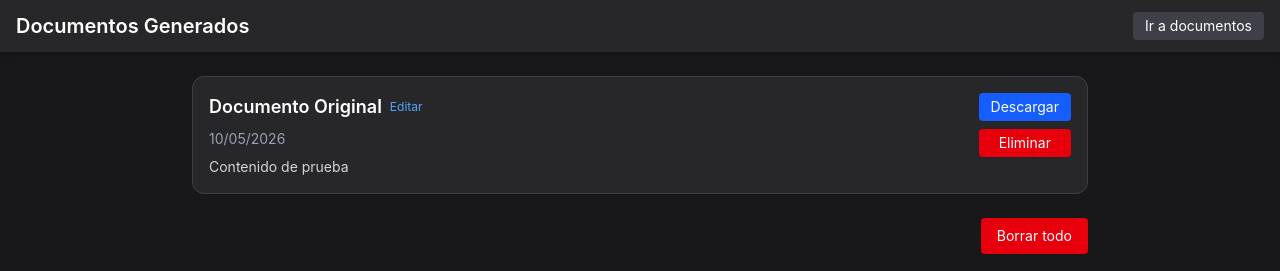
Test: Documentos flow integration › debe completar el flujo de edición (renombrar) un documento
Expected: the text "Documento Original" is shown, [209,96,382,117]
Note: Simular clic en editar
Click the button "Editar" at (406, 107), box [390,99,422,115]
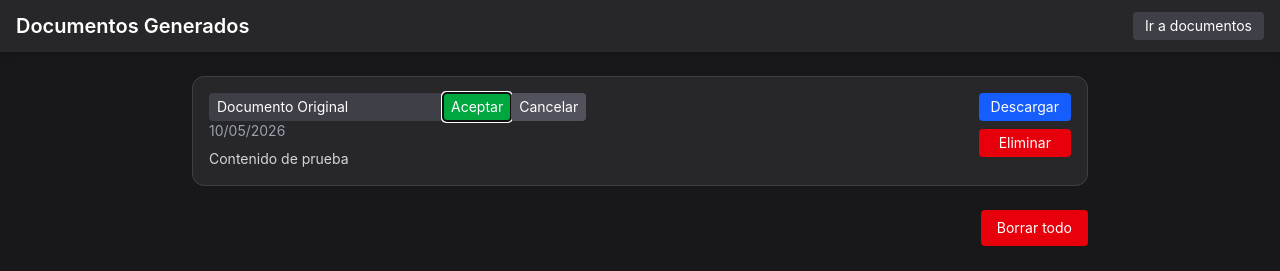
Note: Cambiar el nombre en el input
Replace the text in the field with "Documento Actualizado" at (326, 107), box [209,93,443,121]
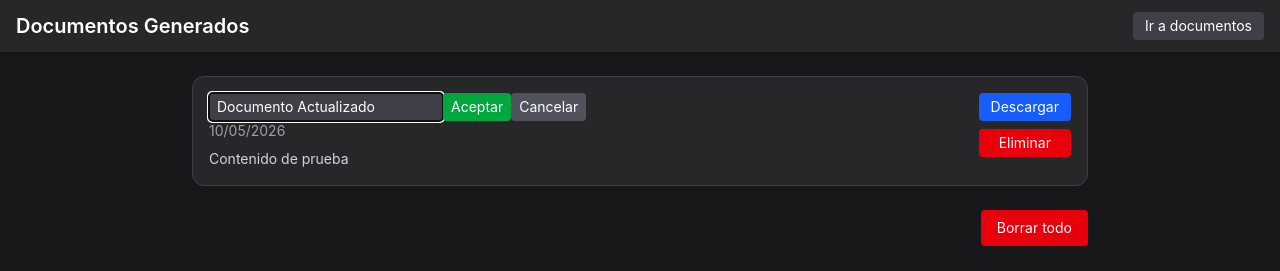
Note: Confirmar cambio
Click the button "Aceptar" at (477, 107), box [443,93,511,121]
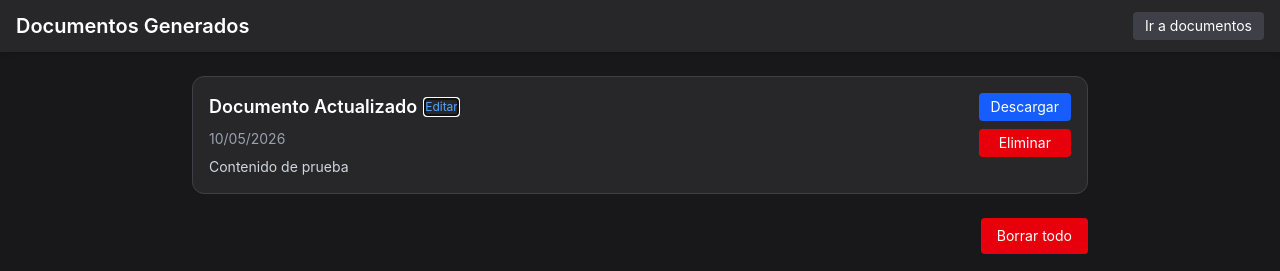
Expected: the text "Documento Original" is not shown
Expected: the text "Documento Actualizado" is shown, [209,96,417,117]
